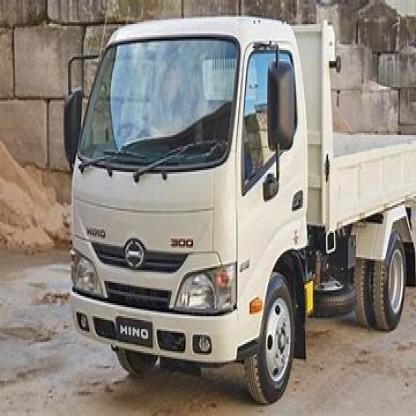dump_truck: (47, 9, 412, 407)
